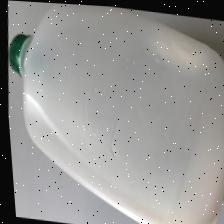plastic: (9, 2, 224, 224)
